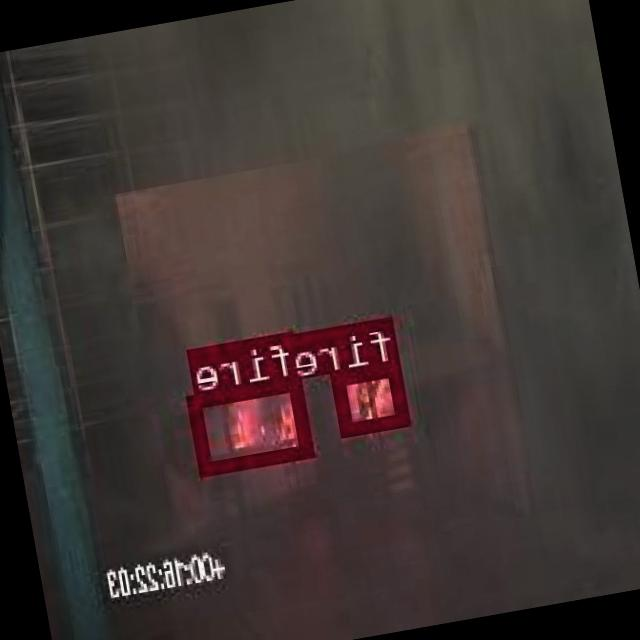fire: (190, 372, 316, 471), (332, 358, 411, 434)
